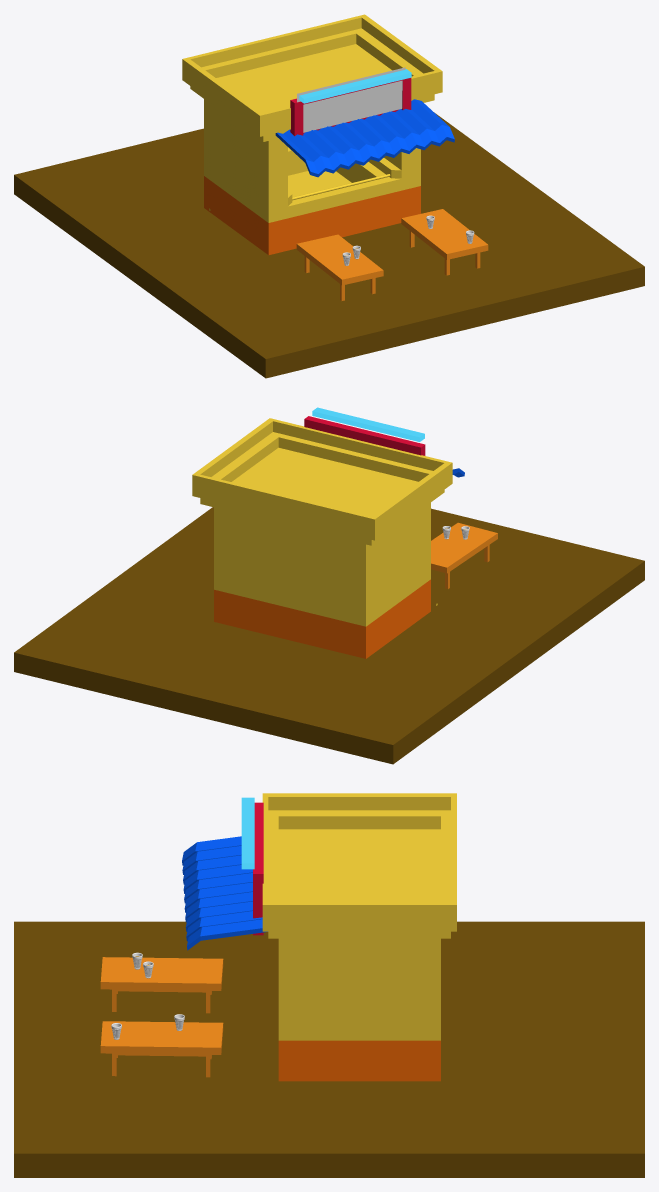
Rendered from Tea blender 2.glb.
3 views of the same model, one above another, from view 1: azimuth 30°, elevation 25°; view 2: azimuth 150°, elevation 25°; view 3: azimuth 270°, elevation 25° (orthographic). The views are drawn at different scales.
Parts seen in each view (by area): view 1: Cube, Cube.001, Cube.002, Plane.001, Cube.004, Cube.005, Cube.006, Cube.003; view 2: Cube, Cube.001, Cube.005, Cube.003, Cube.006; view 3: Cube, Cube.001, Cube.002, Cube.004, Cube.005, Cube.003, Cube.006.
Part boxes in pixels (box(x1,y1,x2,y2)): Cube: box(14, 112, 644, 378); Cube.001: box(182, 14, 442, 255); Cube.002: box(275, 99, 454, 177); Plane.001: box(297, 67, 405, 132); Cube.004: box(401, 209, 488, 275); Cube.005: box(296, 234, 383, 300); Cube.006: box(299, 69, 411, 103); Cube.003: box(290, 78, 411, 136); Cube: box(14, 507, 644, 764); Cube.001: box(192, 418, 452, 658); Cube.005: box(431, 522, 497, 588); Cube.003: box(304, 416, 425, 455); Cube.006: box(312, 407, 424, 441); Cube: box(14, 921, 644, 1177); Cube.001: box(262, 793, 456, 1081); Cube.002: box(182, 836, 267, 950); Cube.004: box(100, 1021, 223, 1077); Cube.005: box(100, 957, 223, 1013); Cube.003: box(253, 802, 263, 935); Cube.006: box(241, 797, 254, 869).
Size of the model in its own units: 52.79 by 24.48 by 60.72.
